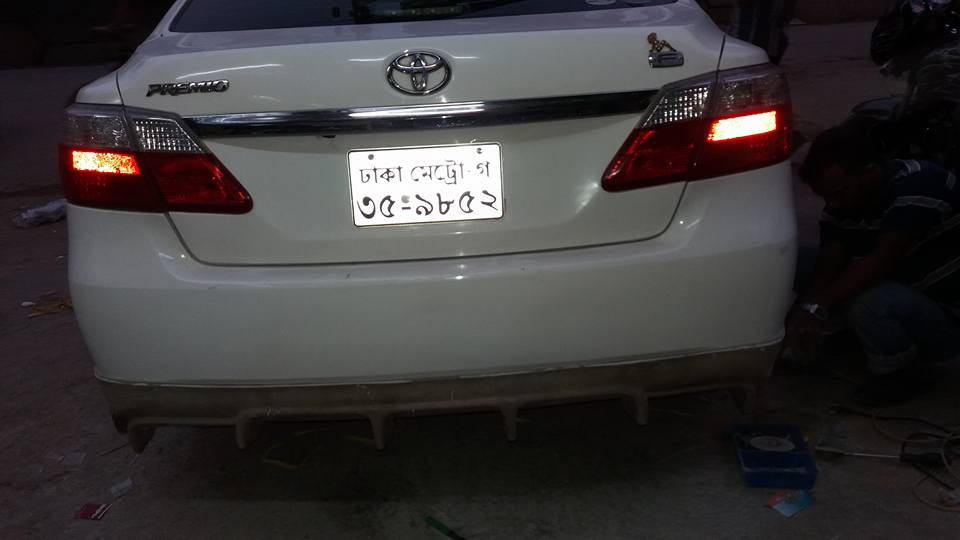registration_plate: (344, 140, 506, 229)
